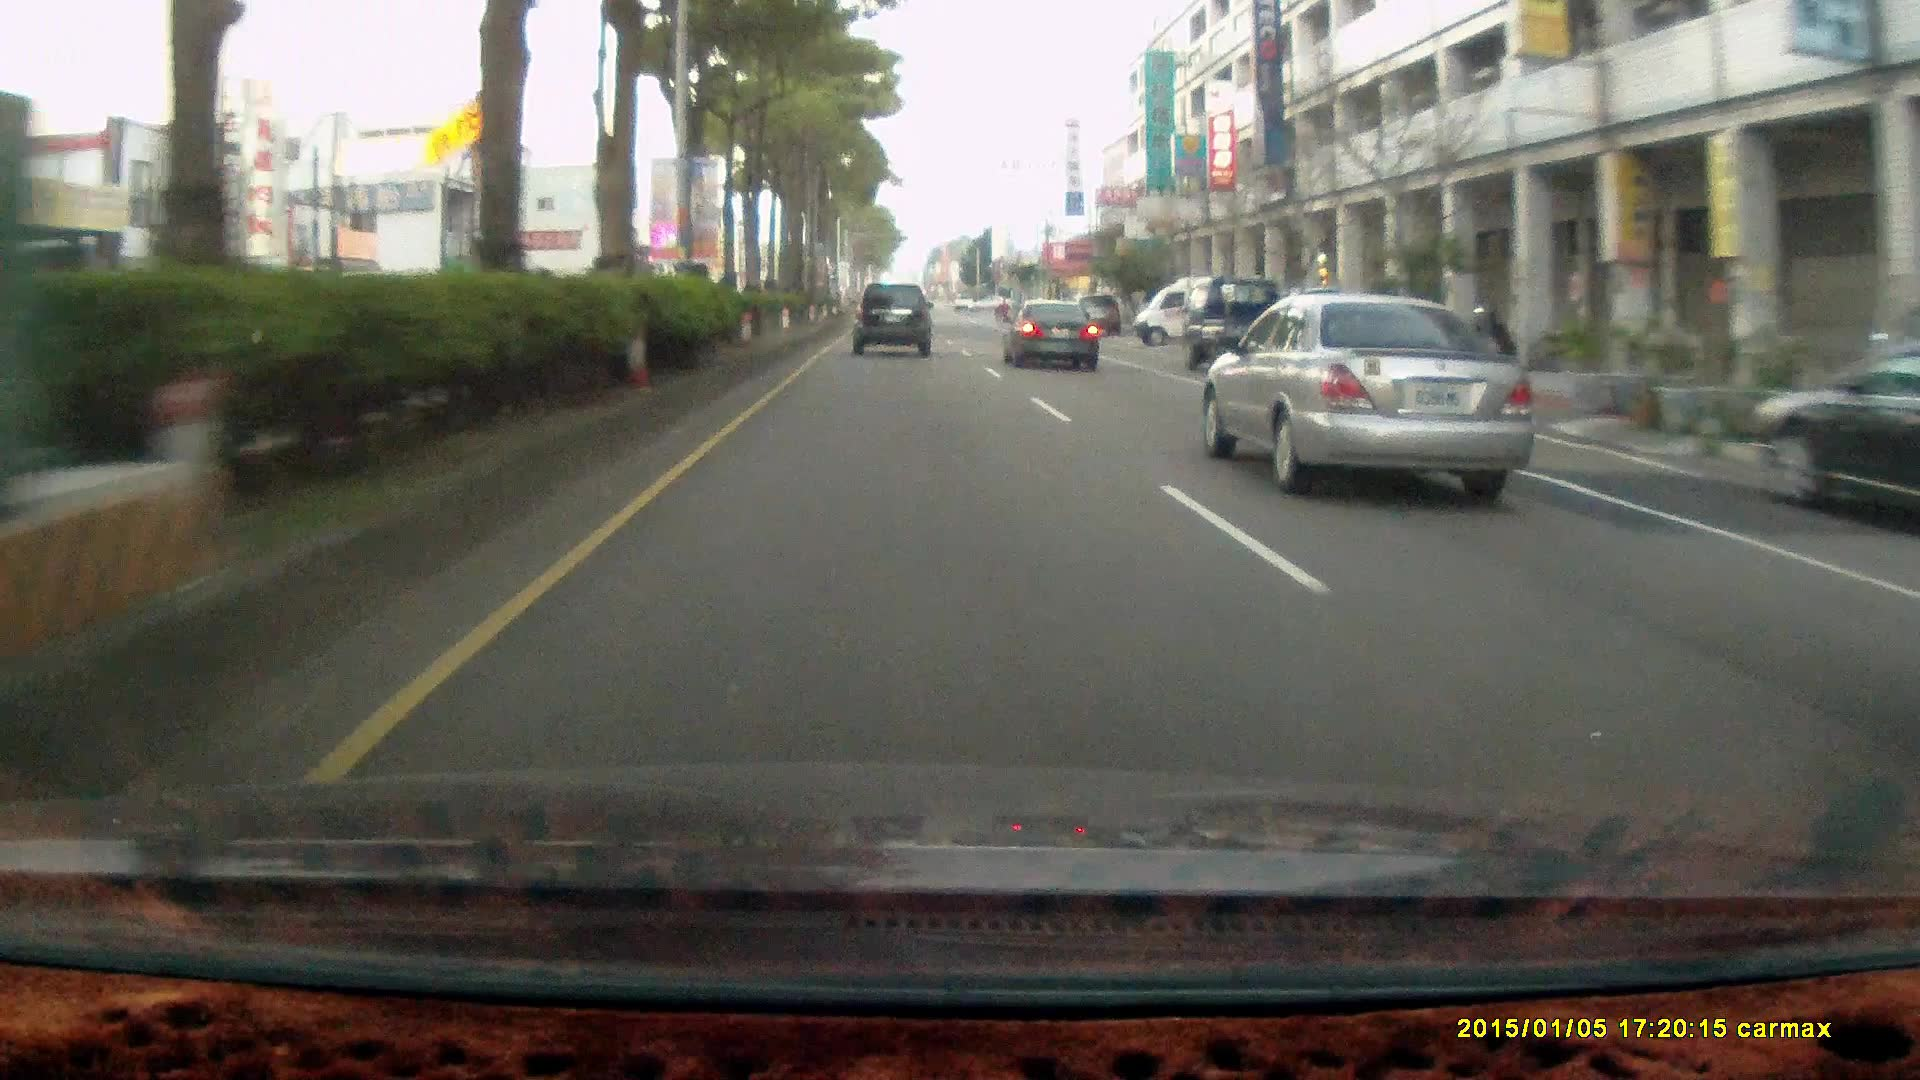vehicle: (1197, 287, 1528, 487), (1749, 353, 1920, 541), (1329, 305, 1502, 407), (1201, 276, 1320, 388), (1182, 274, 1298, 371), (1135, 274, 1270, 351), (1133, 276, 1267, 345), (1000, 298, 1104, 375), (1001, 291, 1098, 364), (851, 281, 936, 359), (851, 280, 932, 352)
